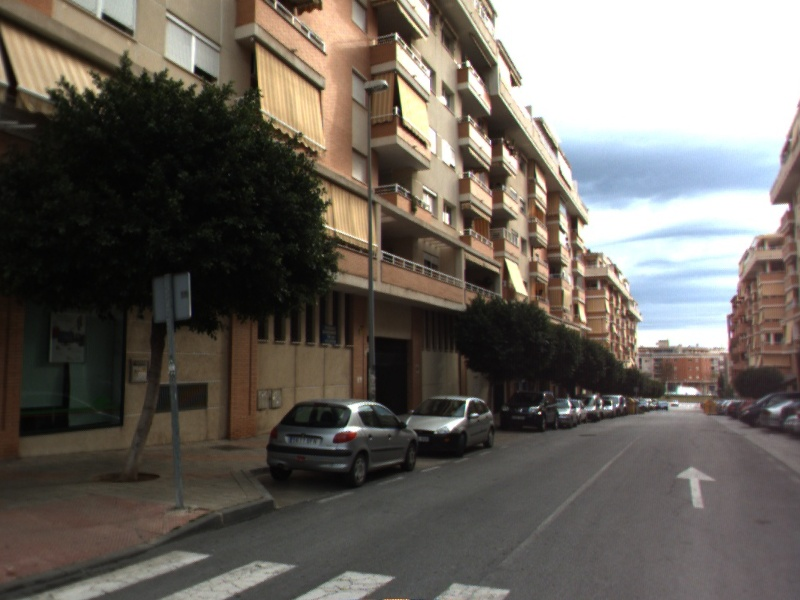STRAIGHT: (673, 464, 719, 510)
